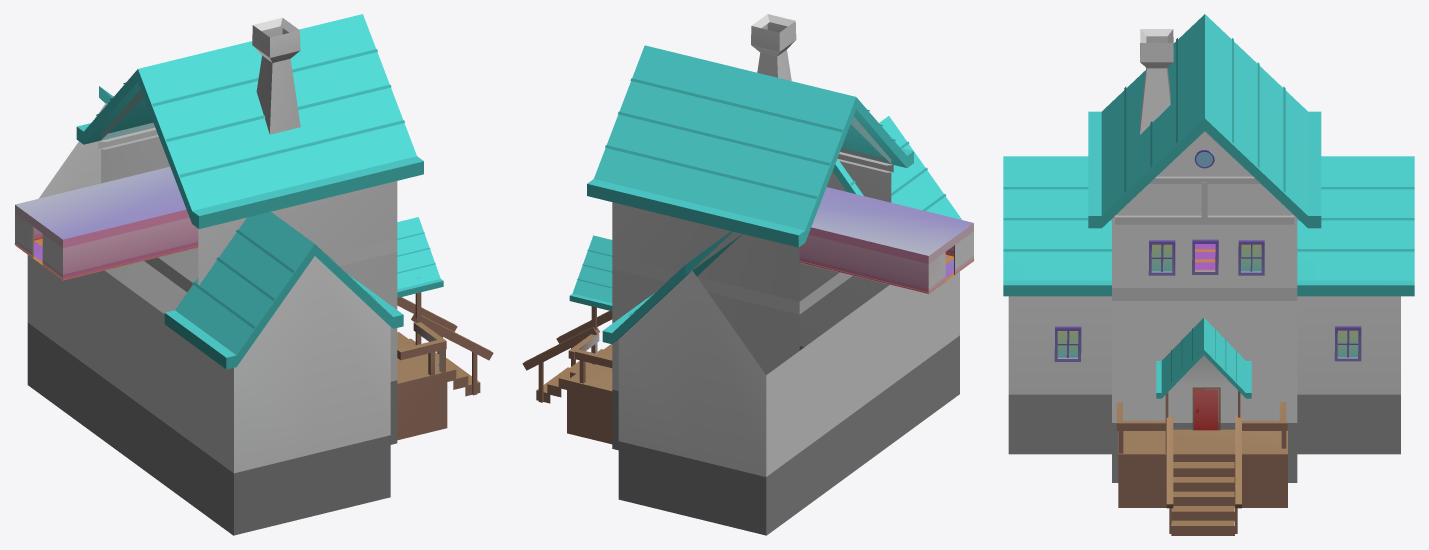
The model's file is house-with-hallway.fbx.
3 renders of one model, left to right at view 1: azimuth 30°, elevation 25°; view 2: azimuth 150°, elevation 25°; view 3: azimuth 270°, elevation 25°, orthographic. The views are drawn at different scales.
Visible parts, largest first — view 1: Cube.480; view 2: Cube.480; view 3: Cube.480.
Boxes of the visible parts, left/top/right/bottom form: Cube.480: left=14, top=14, right=493, bottom=535; Cube.480: left=522, top=14, right=974, bottom=535; Cube.480: left=1003, top=14, right=1414, bottom=535.
Size of the model in its own units: 33.98 by 31.43 by 29.14.
